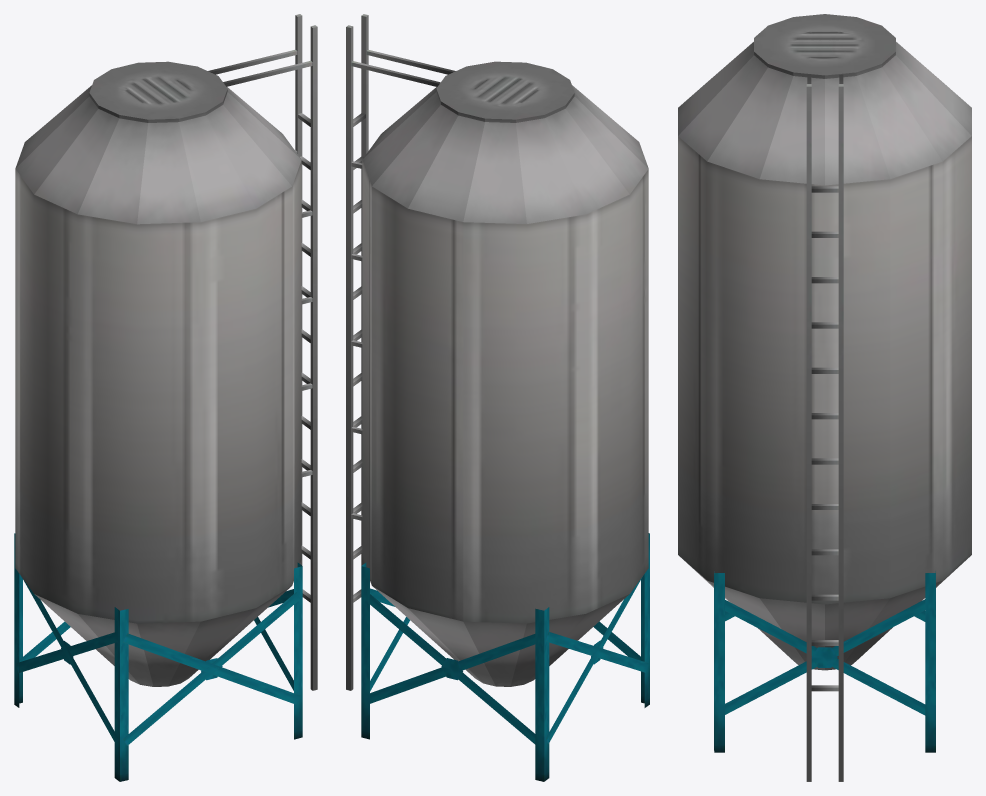
File: industrial_silos_04.glb
The picture shows the model from 3 angles, left to right: view 1: azimuth 30°, elevation 25°; view 2: azimuth 150°, elevation 25°; view 3: azimuth 270°, elevation 25°; orthographic projection. The views are drawn at different scales.
Visible parts, largest first — view 1: ind:silos_04; view 2: ind:silos_04; view 3: ind:silos_04.
Boxes of the visible parts, <box> form: ind:silos_04: <box>14,14,317,781</box>; ind:silos_04: <box>346,14,649,781</box>; ind:silos_04: <box>678,14,971,781</box>.
Bounding box in the file's own units: 3.33 × 7.68 × 2.93.
Materials: 1 (1 with a texture image).
